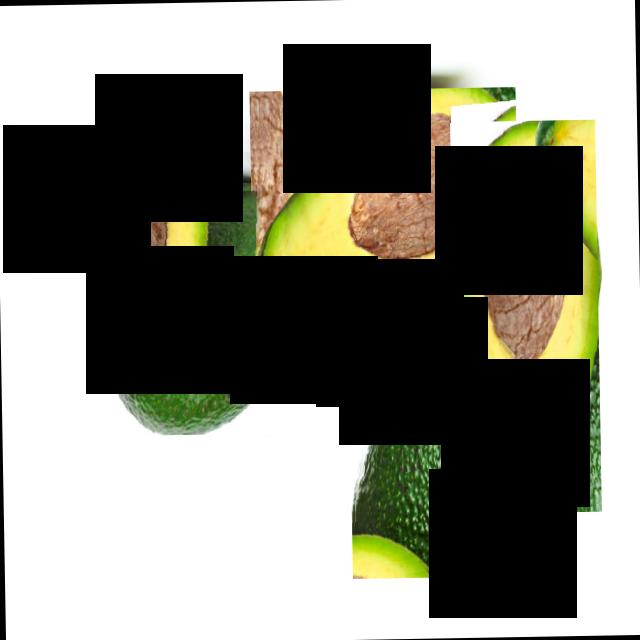avocado: (249, 87, 519, 345), (442, 119, 602, 514), (94, 181, 340, 436), (348, 297, 488, 578)
